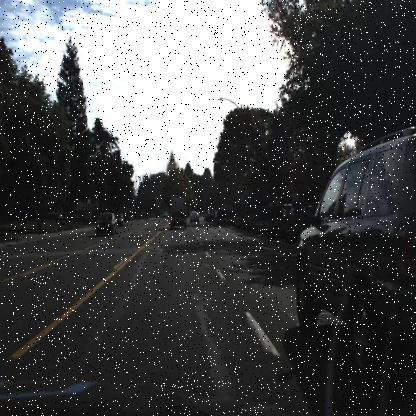car: (295, 128, 414, 392), (170, 189, 194, 234), (95, 209, 119, 240), (112, 212, 128, 228), (189, 208, 202, 227)
truck: (166, 186, 189, 234)
